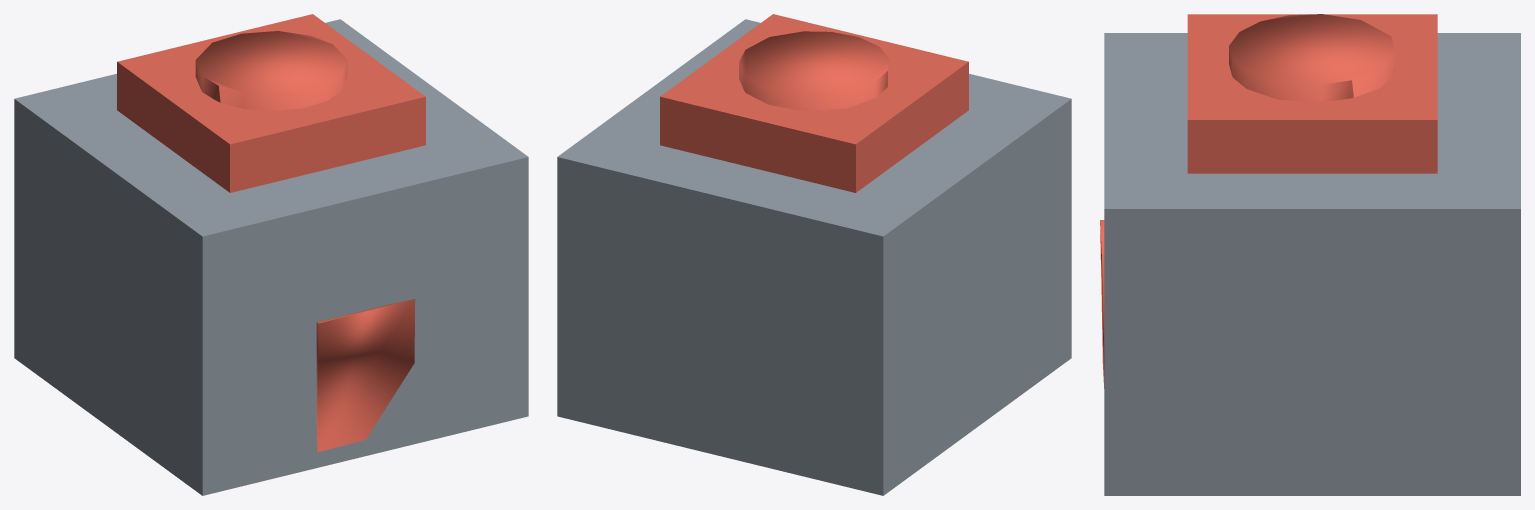
File: SU_SuperweaponSilo_LOD1.glb
3 views of the same model, side by side, from view 1: azimuth 30°, elevation 25°; view 2: azimuth 150°, elevation 25°; view 3: azimuth 270°, elevation 25° (orthographic). The views are drawn at different scales.
Visible parts, largest first — view 1: EntranceGate; view 2: EntranceGate; view 3: EntranceGate.
Part boxes in pixels (x1,y1,x2,y2): EntranceGate: (14, 14, 528, 495); EntranceGate: (557, 14, 1071, 495); EntranceGate: (1100, 14, 1520, 495).
Size of the model in its own units: 1000 by 950 by 1010.
